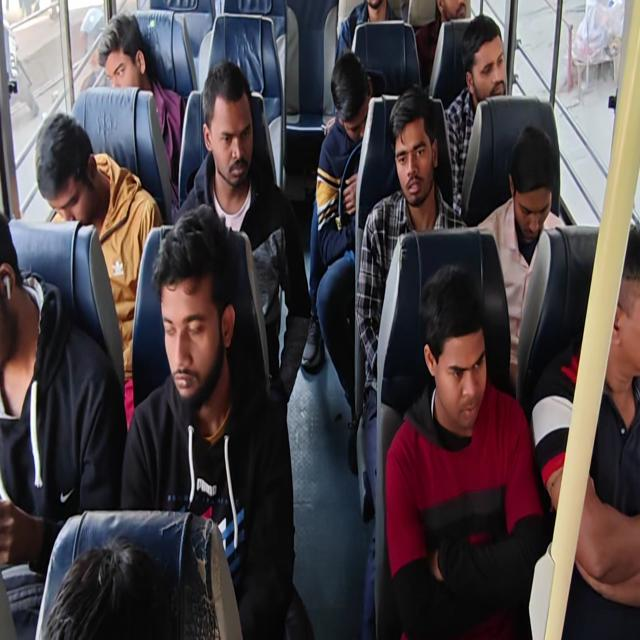person: (1, 1, 638, 638), (120, 203, 306, 638), (384, 262, 546, 638), (0, 210, 127, 638), (355, 85, 467, 519), (174, 60, 312, 408), (530, 222, 639, 638), (35, 111, 163, 431), (308, 50, 376, 473), (475, 124, 566, 392), (96, 11, 188, 201), (42, 534, 173, 639), (444, 14, 507, 218), (414, 0, 468, 88), (335, 0, 403, 64)
